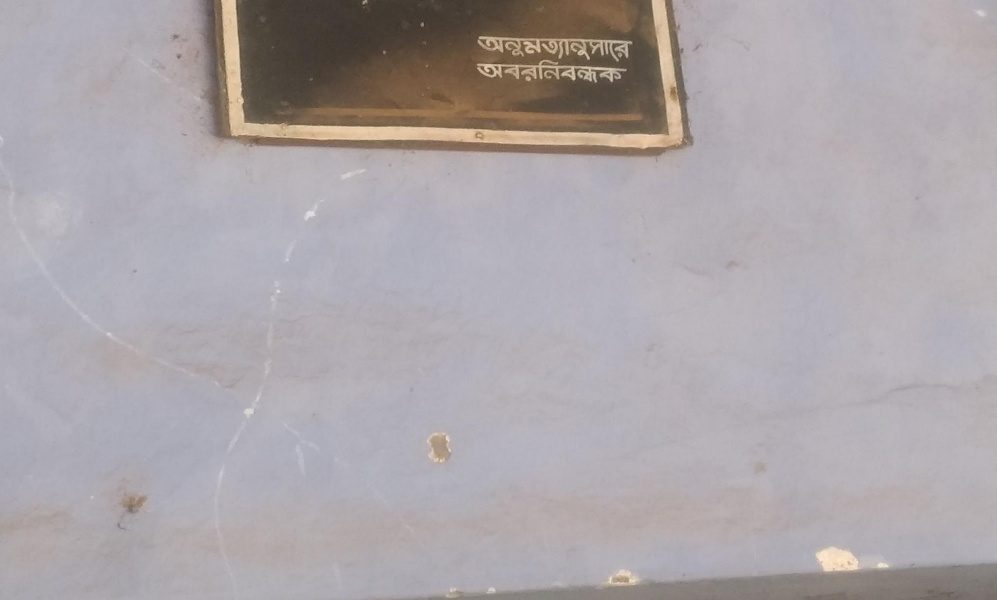text: (481, 33, 496, 63), (497, 33, 512, 63), (513, 33, 528, 63), (529, 33, 544, 63), (545, 33, 560, 63), (561, 33, 576, 63), (577, 33, 592, 63), (593, 33, 608, 63), (609, 33, 624, 63), (481, 58, 496, 84), (497, 58, 512, 84), (513, 58, 528, 84), (529, 58, 544, 84), (545, 58, 560, 84), (561, 58, 576, 84), (577, 58, 592, 84), (593, 58, 608, 84), (609, 58, 624, 84), (625, 58, 635, 84), (625, 33, 633, 63), (471, 58, 480, 84), (476, 33, 480, 63)
